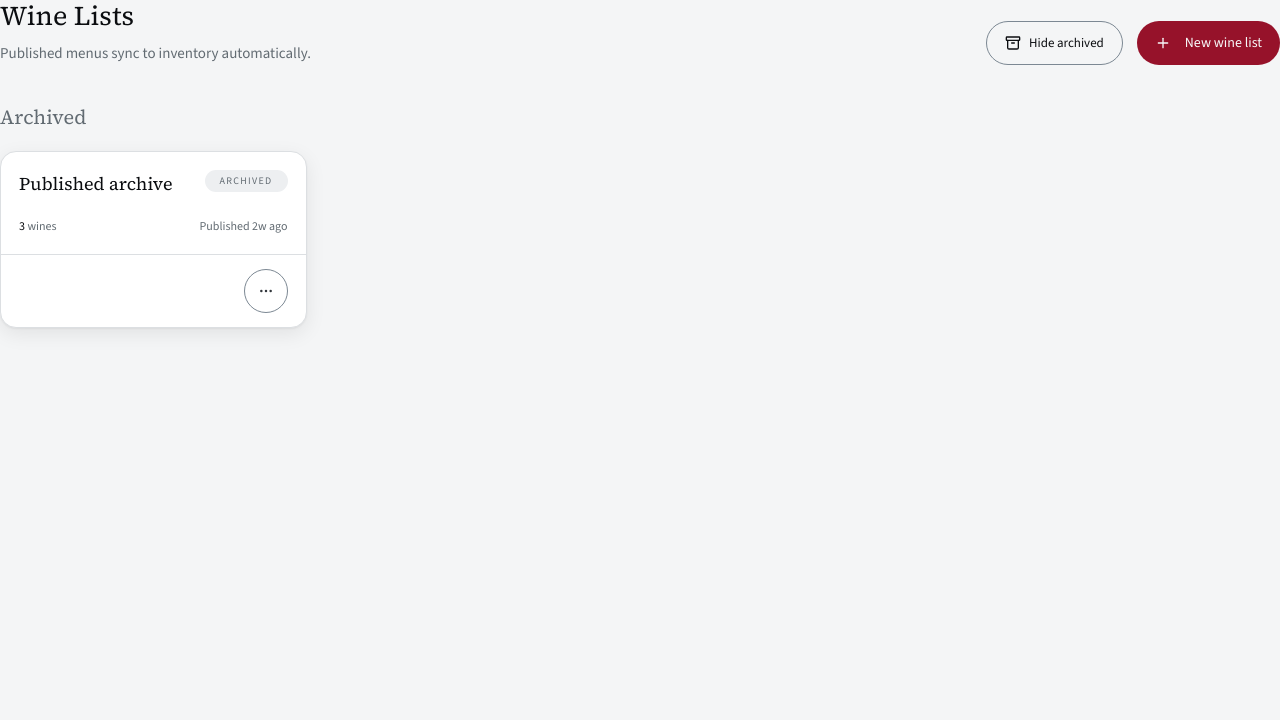
Test: WineListLanding permanent-delete confirmation › preserves the archived-list warning when published is true
Click the button named "More actions for Published archive": (266, 291) [244,269,288,313]
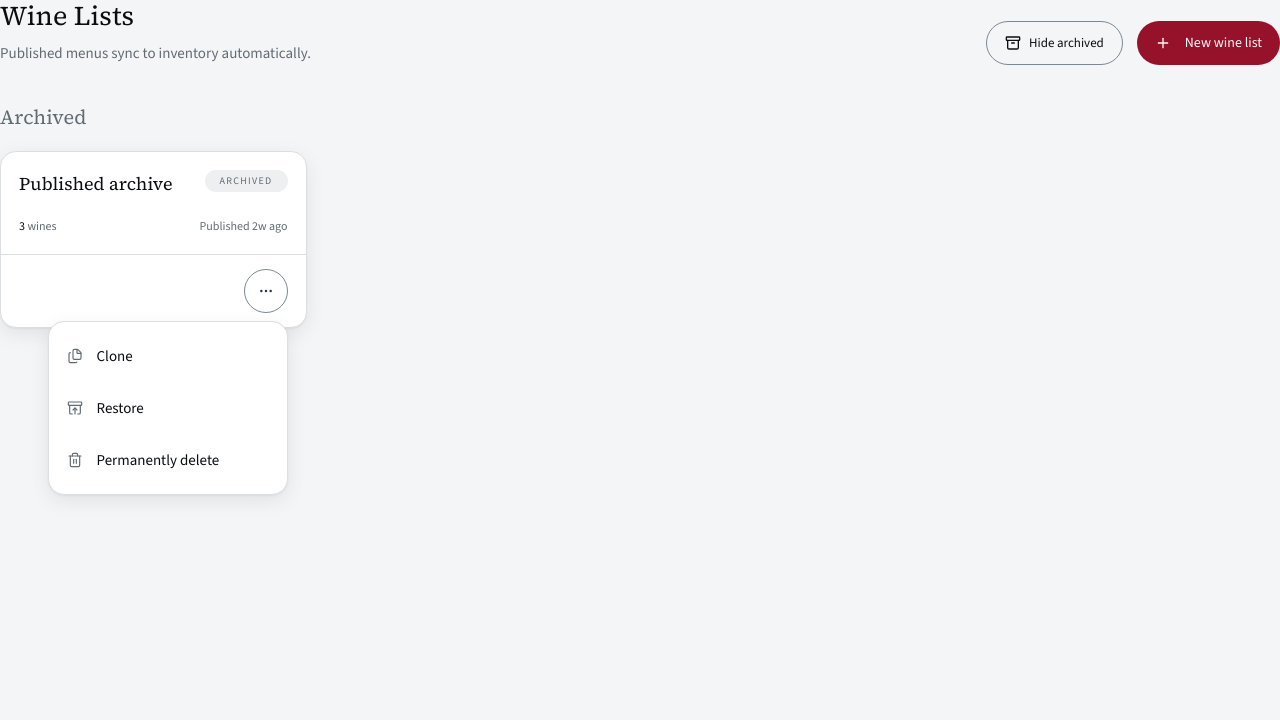
Click the menu item "Permanently delete": (168, 460) [48,434,286,486]
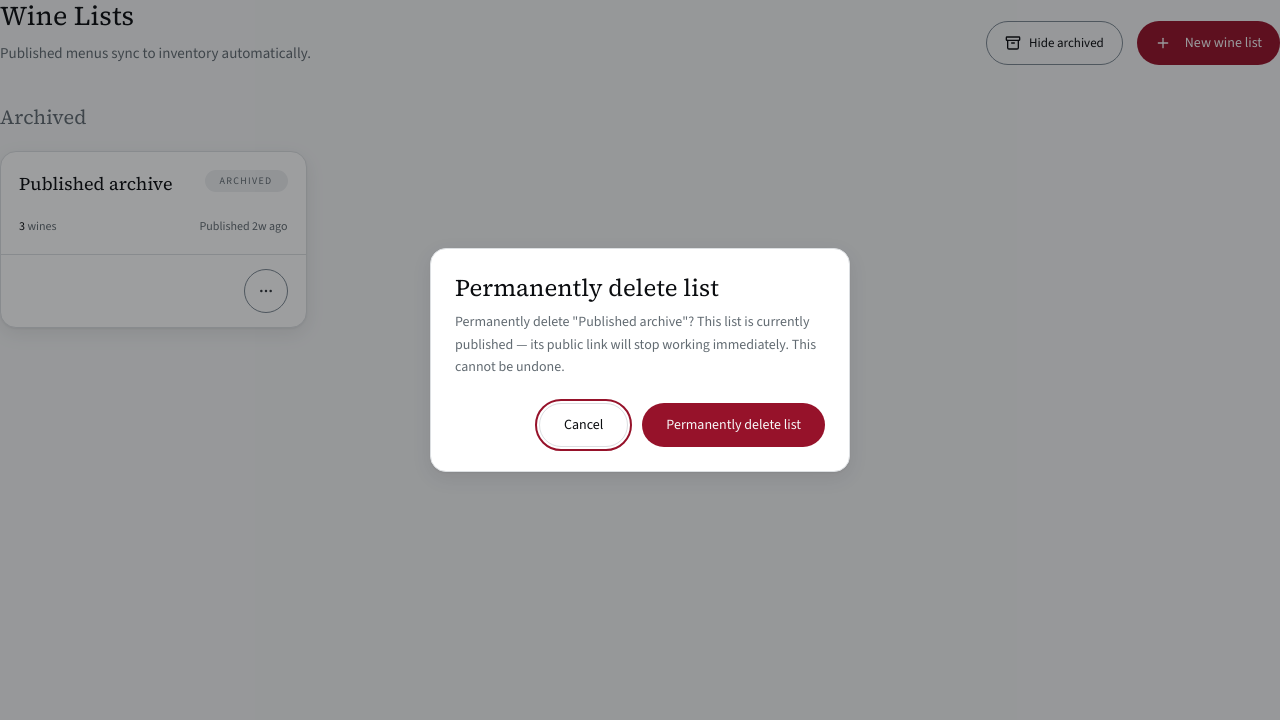
Expected: the dialog is shown, [430,248,850,472]
Expected: the dialog shows "Permanently delete \"Published archive\"? This list is currently published — its public link will stop working immediately. This cannot be undone.", [455,312,816,376]
